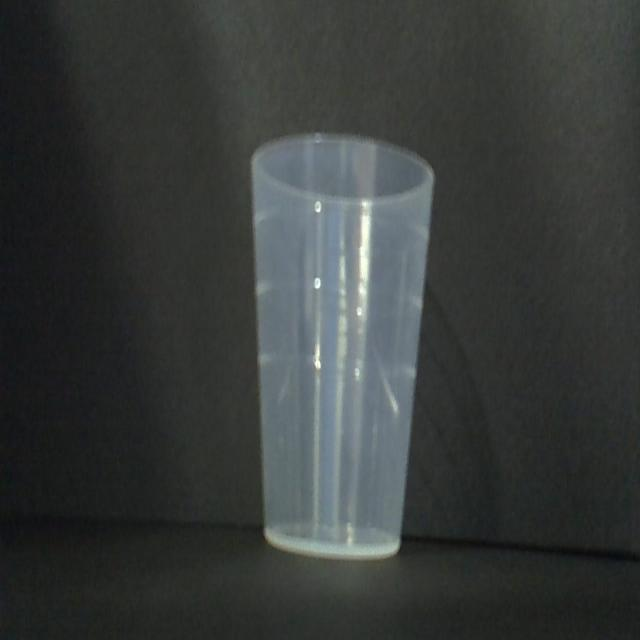bottle: (252, 134, 434, 559)
